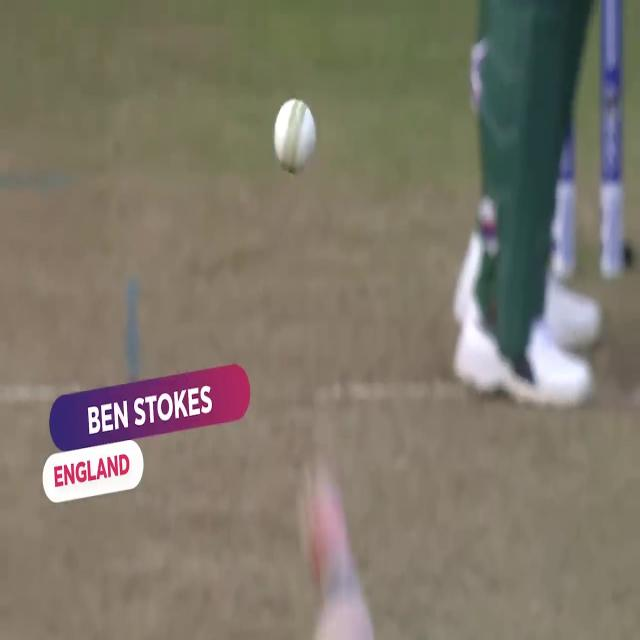ball: (273, 92, 319, 180)
